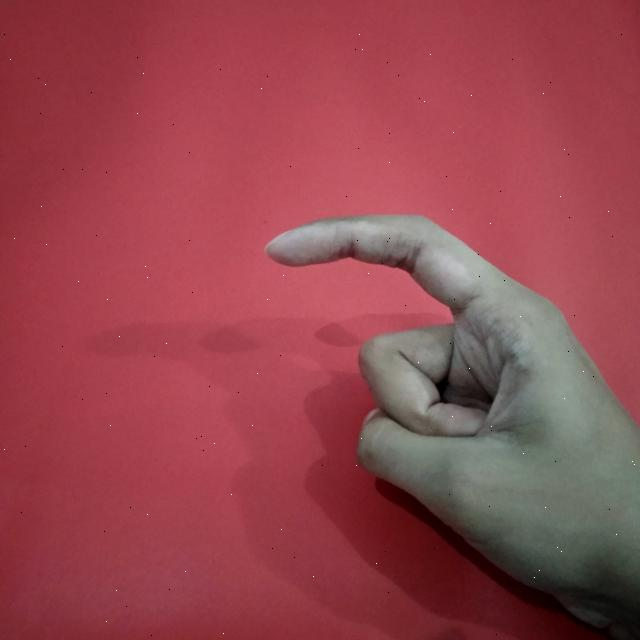X: (257, 198, 640, 640)
